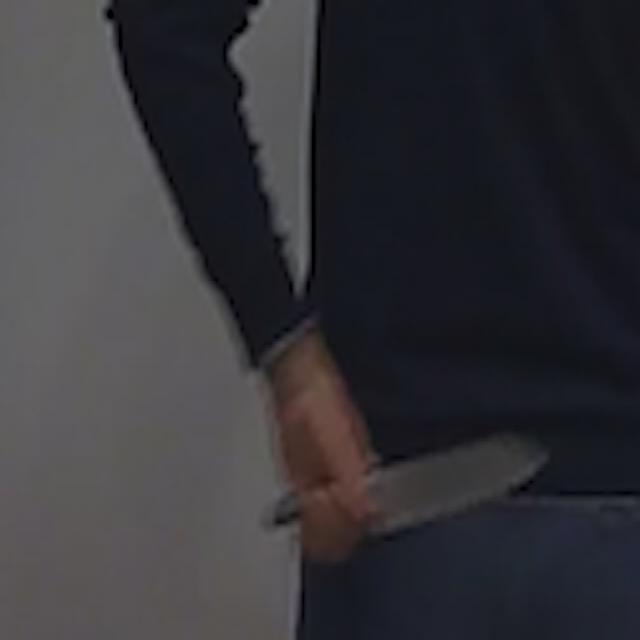suspicion: (98, 2, 560, 576), (366, 425, 555, 540), (258, 492, 300, 535)
